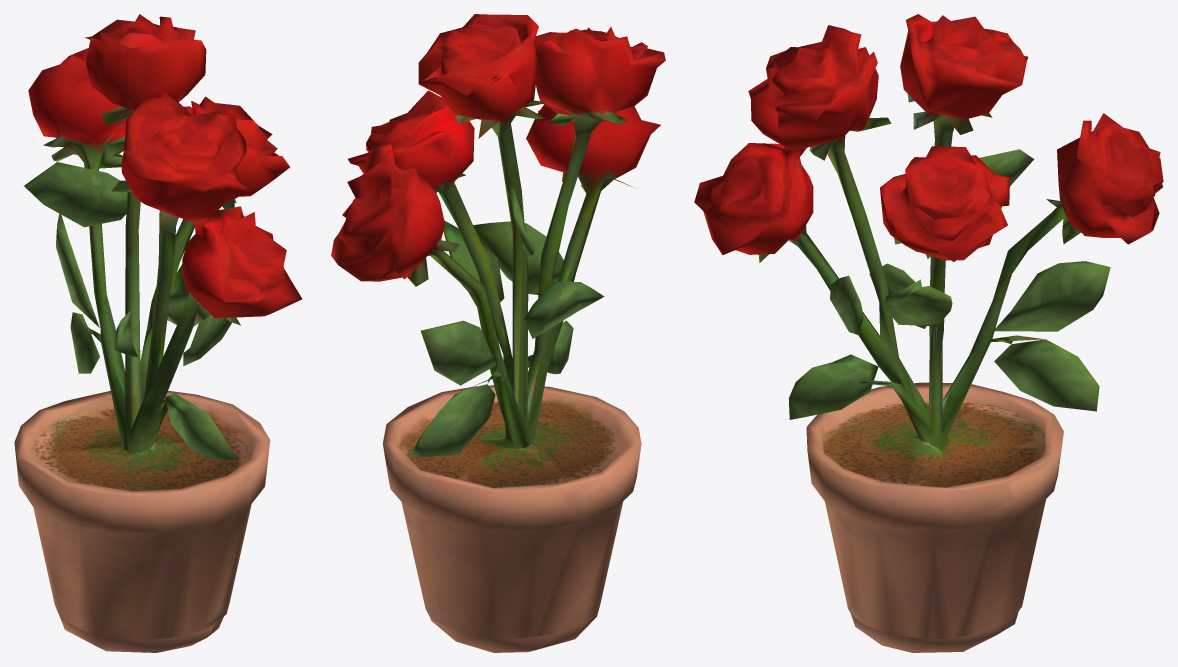
Rendered from potRedRoses.fbx.
The picture shows the model from 3 angles, left to right: view 1: azimuth 30°, elevation 25°; view 2: azimuth 150°, elevation 25°; view 3: azimuth 270°, elevation 25°; orthographic projection. The views are drawn at different scales.
Parts seen in each view (by area): view 1: PotRedRoses; view 2: PotRedRoses; view 3: PotRedRoses.
Part boxes in pixels (x1,y1,x2,y2): PotRedRoses: (14,14,302,652); PotRedRoses: (331,14,665,652); PotRedRoses: (694,14,1163,652).
Bounding box in the file's own units: 20.74 × 45 × 31.86.
